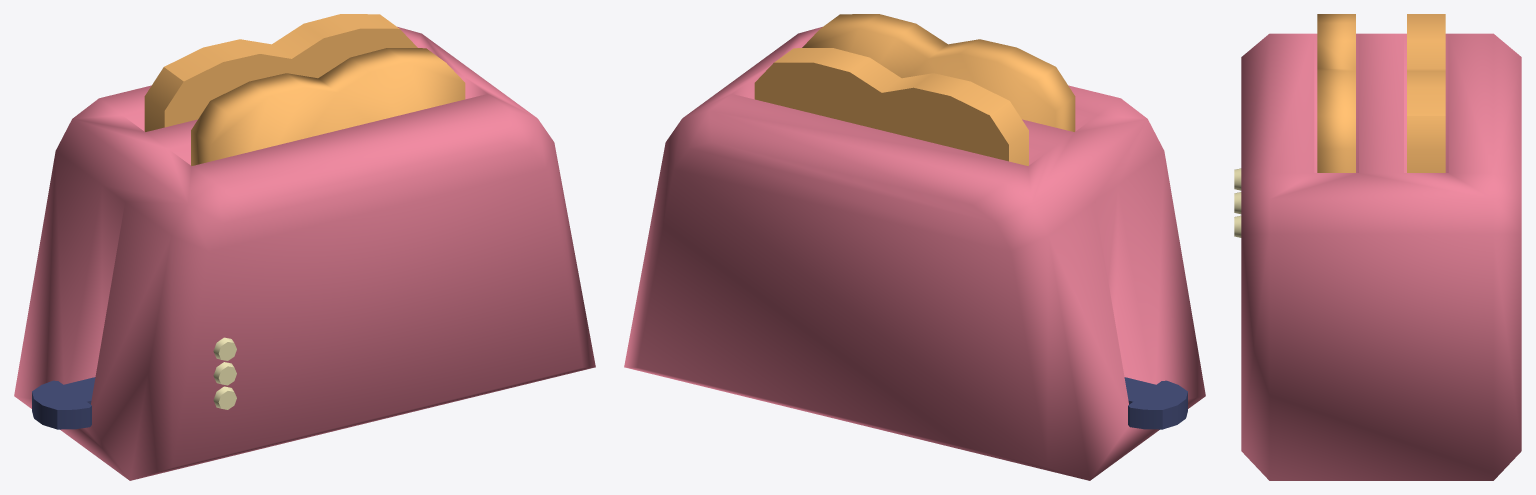
File: BreadMaker.FBX
3 views of the same model, side by side, from view 1: azimuth 30°, elevation 25°; view 2: azimuth 150°, elevation 25°; view 3: azimuth 270°, elevation 25° (orthographic). The views are drawn at different scales.
Parts seen in each view (by area): view 1: Box002, 对象001, 对象002; view 2: Box002, 对象002, 对象001; view 3: Box002, 对象001, 对象002.
Part boxes in pixels (left/top/right/bottom): Box002: left=14, top=26, right=595, bottom=480; 对象001: left=191, top=48, right=465, bottom=165; 对象002: left=144, top=14, right=417, bottom=131; Box002: left=624, top=26, right=1205, bottom=480; 对象002: left=754, top=48, right=1028, bottom=165; 对象001: left=802, top=14, right=1075, bottom=131; Box002: left=1234, top=33, right=1521, bottom=480; 对象001: left=1317, top=14, right=1355, bottom=172; 对象002: left=1407, top=14, right=1445, bottom=172.
Bounding box in the file's own units: 134 × 83.6 × 68.99.
Materials: 1 (1 with a texture image).
